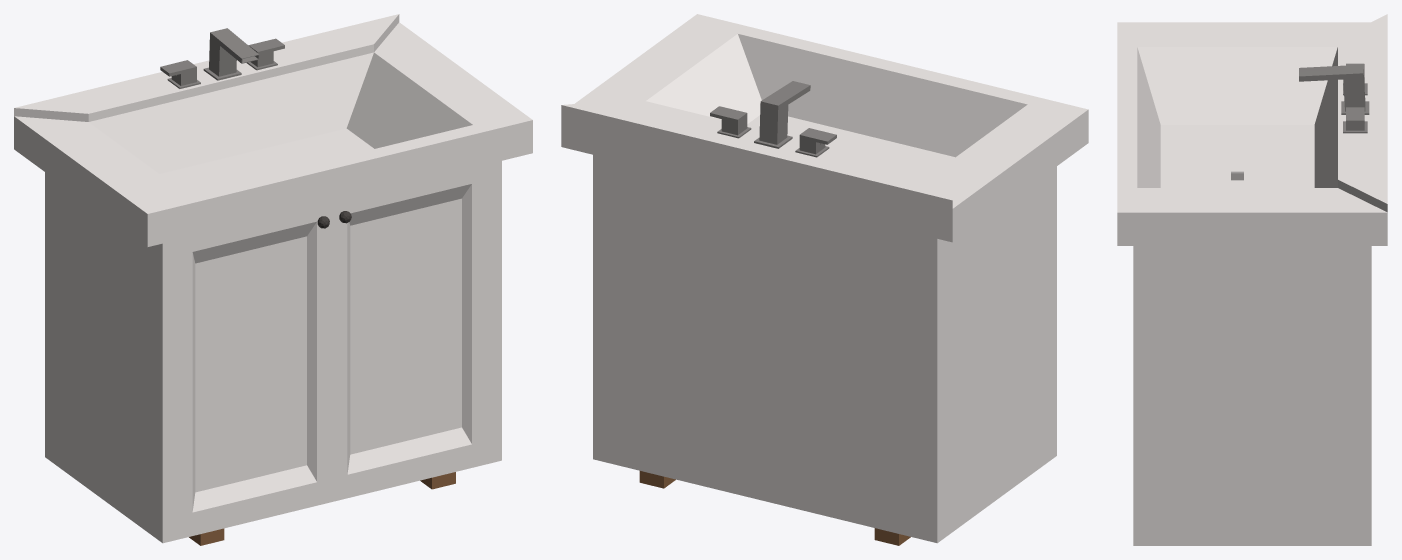
Rendered from Shower Table_01.fbx.
The picture shows the model from 3 angles, left to right: view 1: azimuth 30°, elevation 25°; view 2: azimuth 150°, elevation 25°; view 3: azimuth 270°, elevation 25°; orthographic projection.
Parts seen in each view (by area): view 1: Shower Table_01; view 2: Shower Table_01; view 3: Shower Table_01.
Boxes of the visible parts, x1,y1,x2,y2 form: Shower Table_01: (14, 14, 532, 545); Shower Table_01: (561, 14, 1088, 545); Shower Table_01: (1117, 14, 1387, 545).
Bounding box in the file's own units: 101 × 101 × 60.5.
